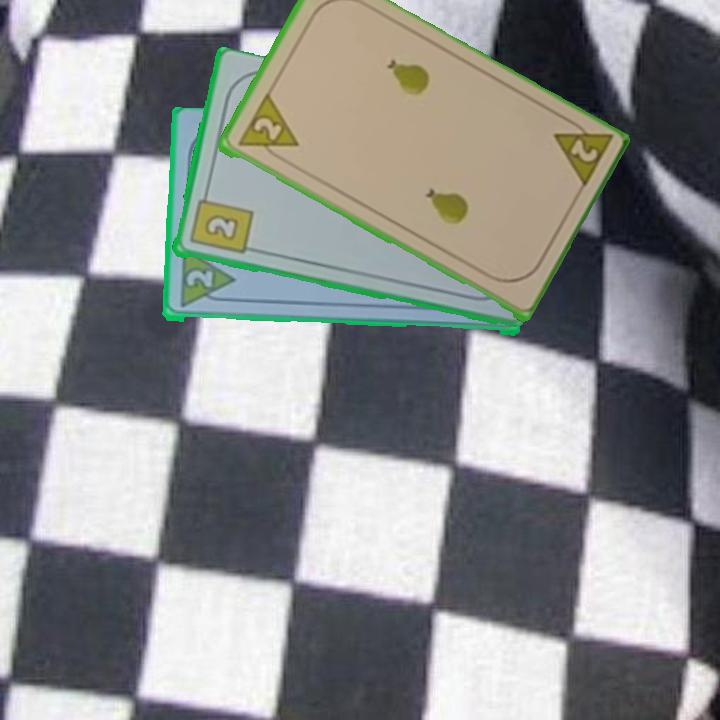2b: (186, 187, 255, 258)
2p: (548, 112, 615, 193), (233, 92, 301, 165), (182, 267, 216, 291)
